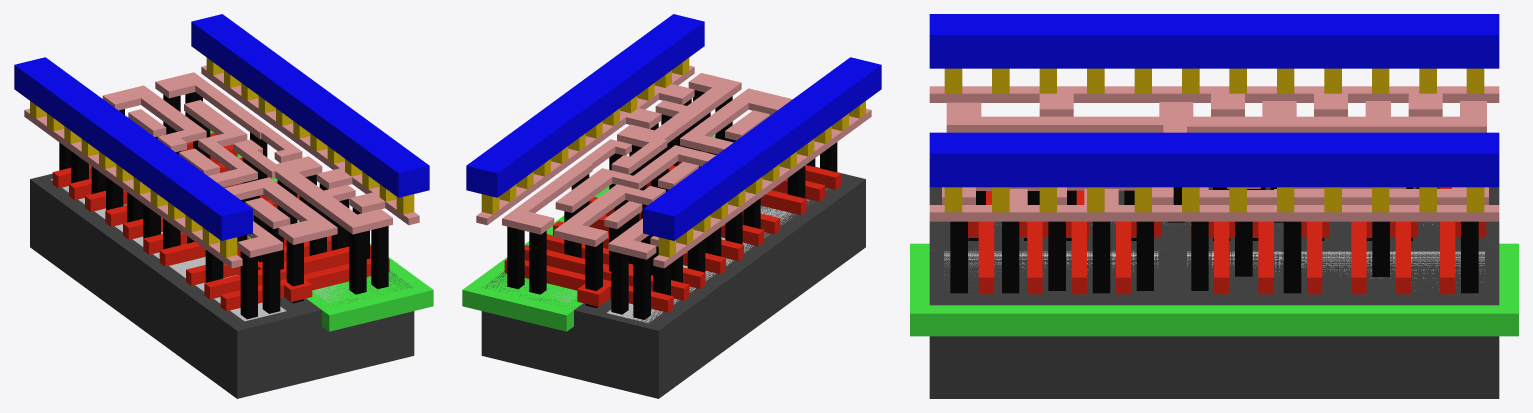
The model's file is sky130_fd_sc_hd__a2111oi_2.obj.
The picture shows the model from 3 angles, left to right: view 1: azimuth 30°, elevation 25°; view 2: azimuth 150°, elevation 25°; view 3: azimuth 270°, elevation 25°; orthographic projection. The views are drawn at different scales.
Parts seen in each view (by area): view 1: subs, metal1, li, licon, poly, mcon, nwell, diff; view 2: subs, metal1, li, licon, poly, mcon, nwell, diff; view 3: metal1, subs, li, nwell, poly, licon, mcon, tap.
Boxes of the visible parts, x1,y1,x2,y2 form: subs: [30, 173, 414, 398]; metal1: [14, 14, 429, 240]; li: [24, 65, 419, 268]; licon: [59, 92, 388, 319]; poly: [52, 133, 389, 311]; mcon: [30, 58, 414, 257]; nwell: [210, 130, 433, 331]; diff: [51, 179, 286, 321]; subs: [481, 167, 865, 398]; metal1: [466, 14, 881, 240]; li: [476, 65, 871, 268]; licon: [507, 90, 837, 319]; poly: [504, 150, 841, 312]; mcon: [481, 58, 865, 257]; nwell: [462, 135, 715, 331]; diff: [607, 188, 827, 323]; metal1: [929, 14, 1499, 187]; subs: [929, 187, 1499, 398]; li: [929, 86, 1499, 221]; nwell: [910, 243, 1518, 336]; poly: [968, 187, 1486, 294]; licon: [950, 187, 1478, 293]; mcon: [944, 68, 1484, 212]; tap: [944, 251, 1484, 290].
Bounding box in the file's own units: 3.2 × 2.74 × 5.9.
